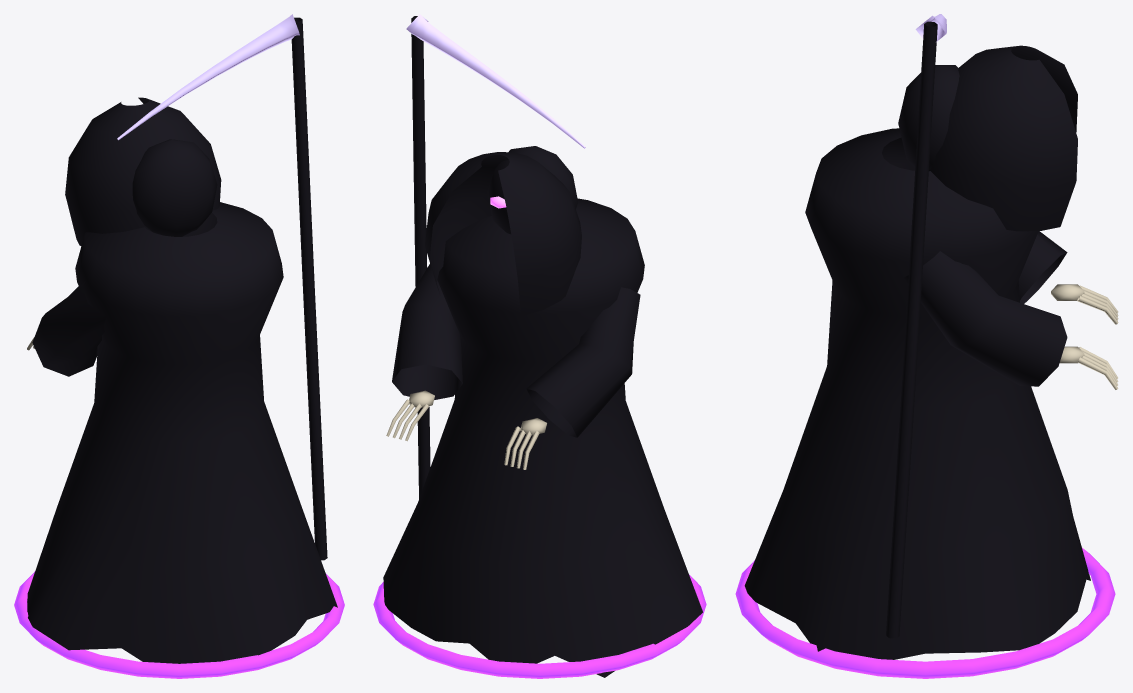
Rendered from reaper.glb.
The picture shows the model from 3 angles, left to right: view 1: azimuth 30°, elevation 25°; view 2: azimuth 150°, elevation 25°; view 3: azimuth 270°, elevation 25°; orthographic projection. The views are drawn at different scales.
Parts seen in each view (by area): view 1: robe; view 2: robe; view 3: robe.
Boxes of the visible parts, x1,y1,x2,y2 form: robe: (14,14,344,678); robe: (373,14,706,678); robe: (735,14,1118,678).
Bounding box in the file's own units: 1.41 × 2.65 × 1.4.
